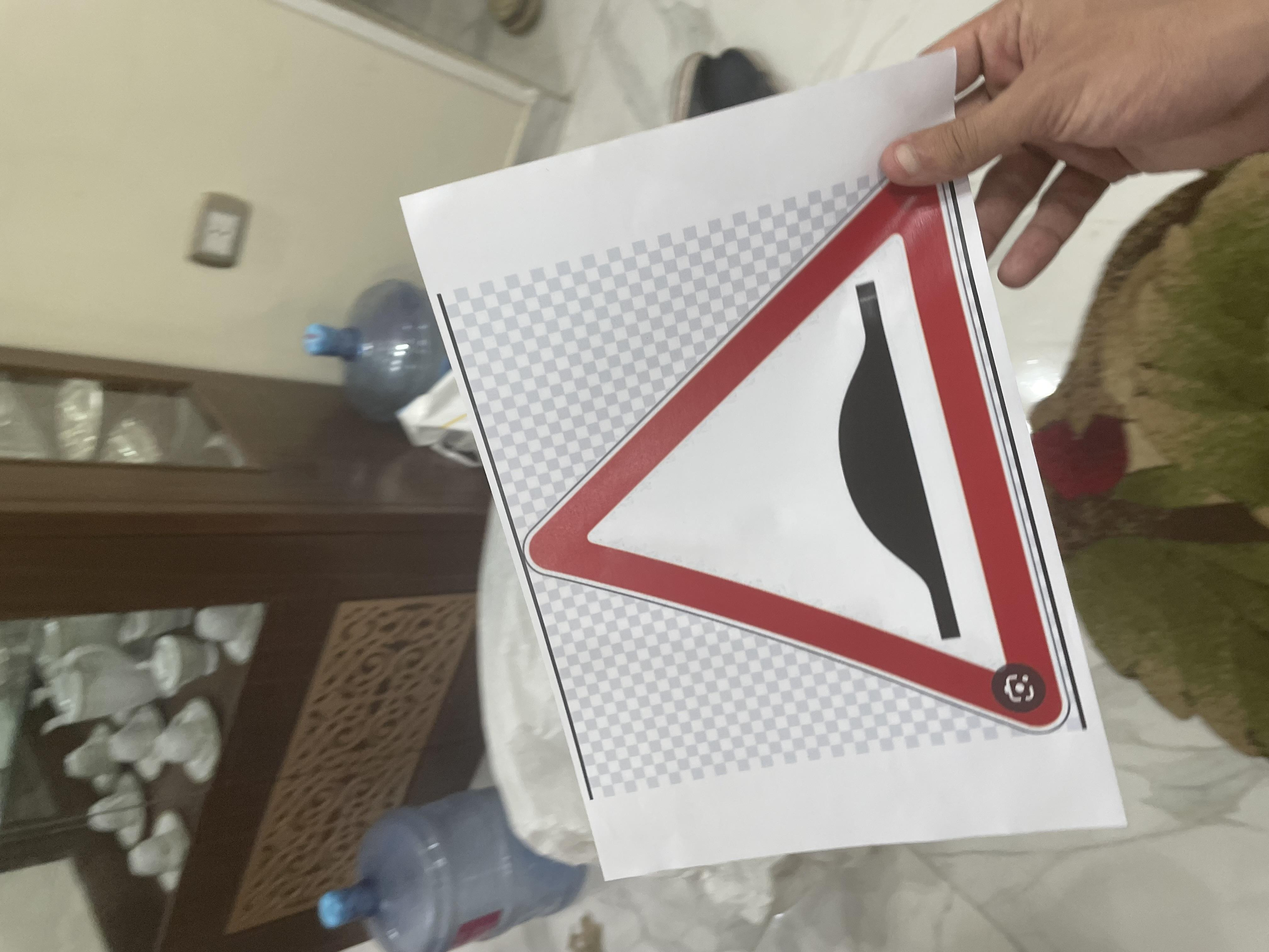Hump: (291, 388, 1042, 804)
